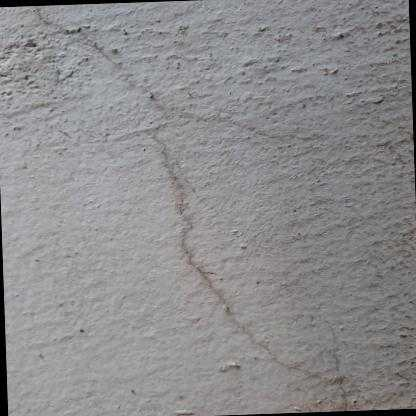crack: (31, 11, 350, 412)
